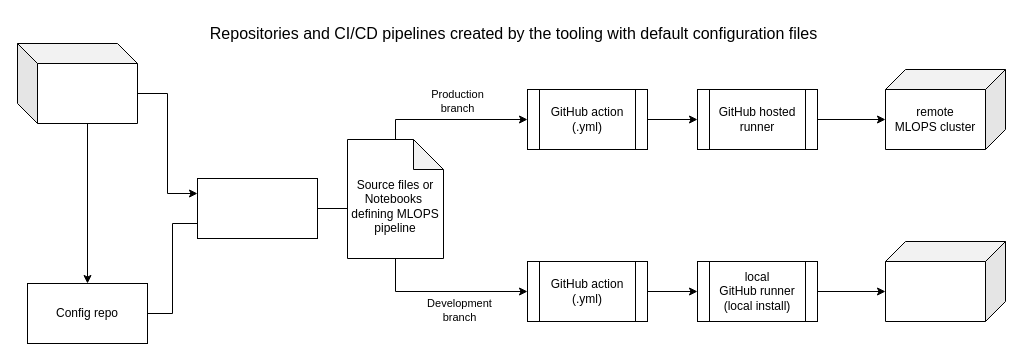
Image size: 1023x361. Some labels were removed from this diagram. Each missing label, with the centre of its shape:
"local MLOPS cluster (local install)" goes at point 945,281.
"Tool (Python + Typer)" goes at point 77,83.
"Working repo" goes at point 257,208.
